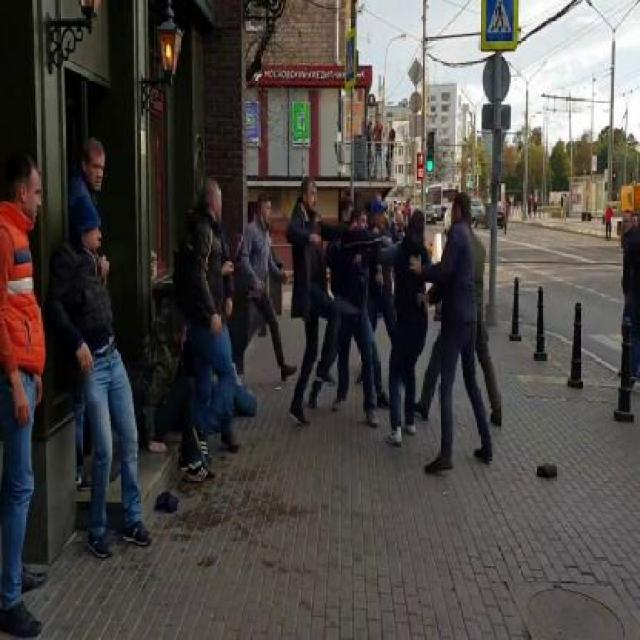fight: (314, 196, 434, 444)
non-fight: (56, 202, 156, 553), (0, 159, 51, 639)
